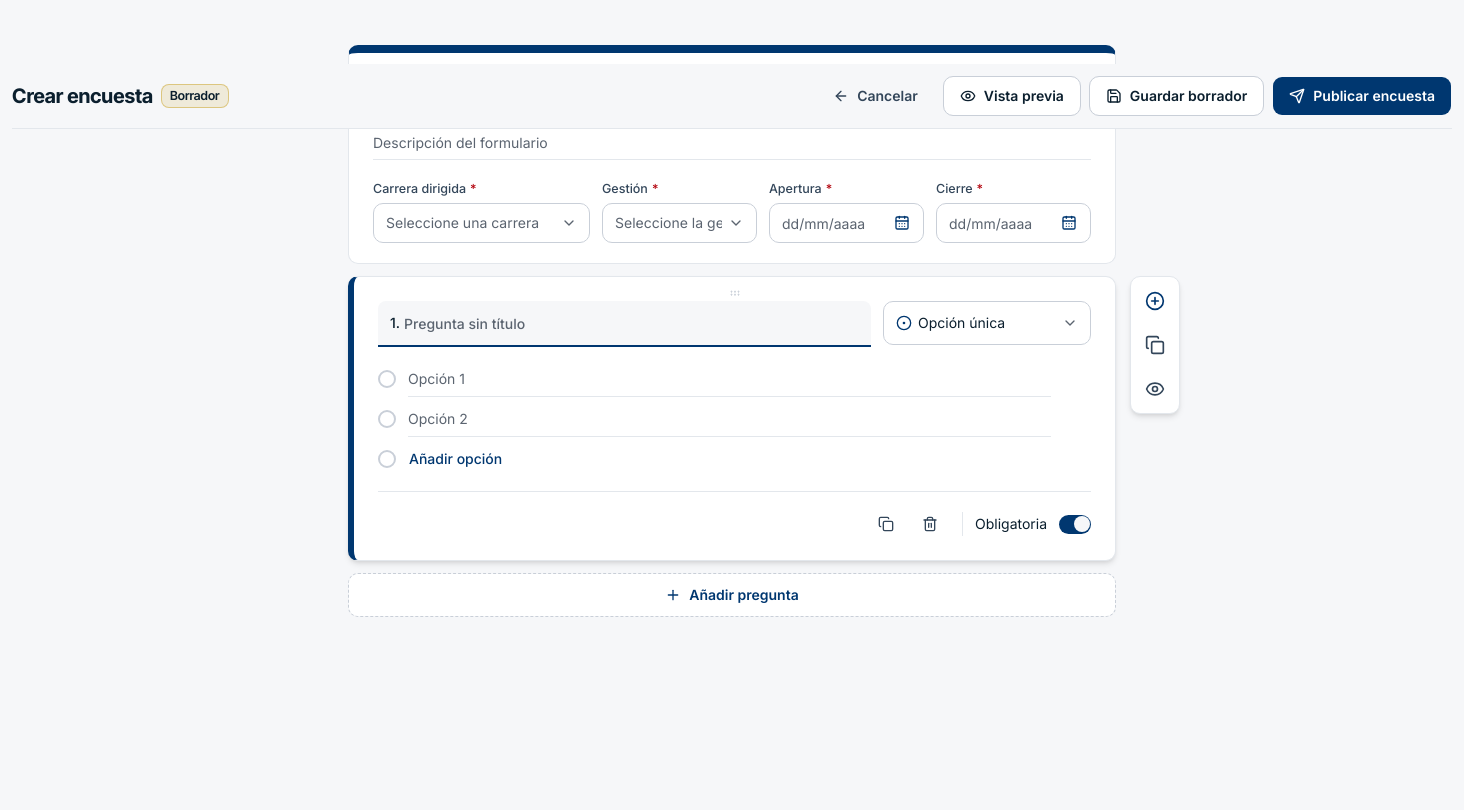
CreateSurveyView › CA2: añade una pregunta numerada, de opción única, obligatoria y con el foco en el enunciado
Click the button "Añadir pregunta".
click(732, 595)  # box [348,573,1116,617]
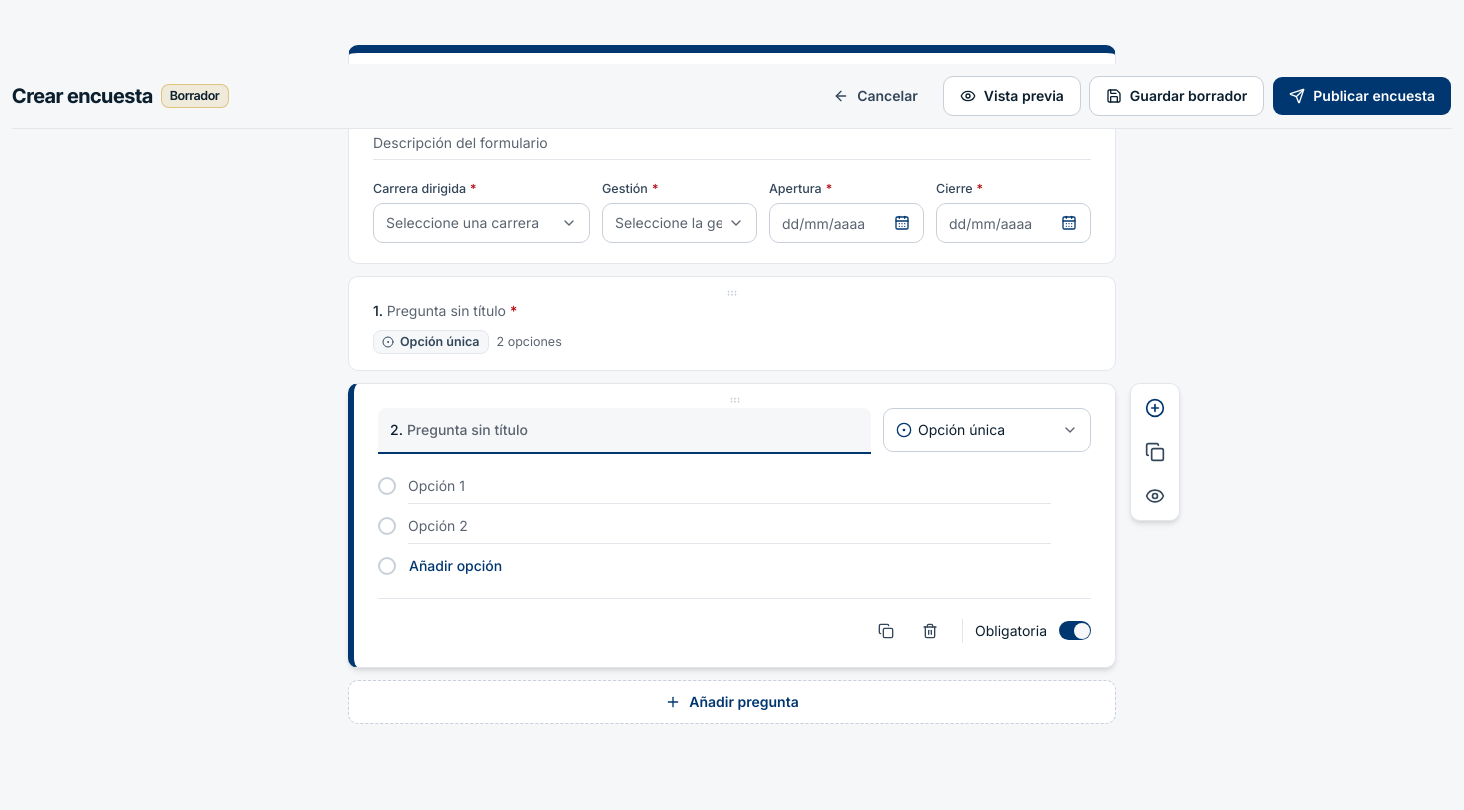
Result: the dropdown named "Tipo de pregunta" shows "Opción única" at [883,408,1091,452]
Result: the switch named "Obligatoria" is checked at [1059,622,1091,640]
Result: the button with aria-label "Editar pregunta 1" is shown at [373,302,562,354]
